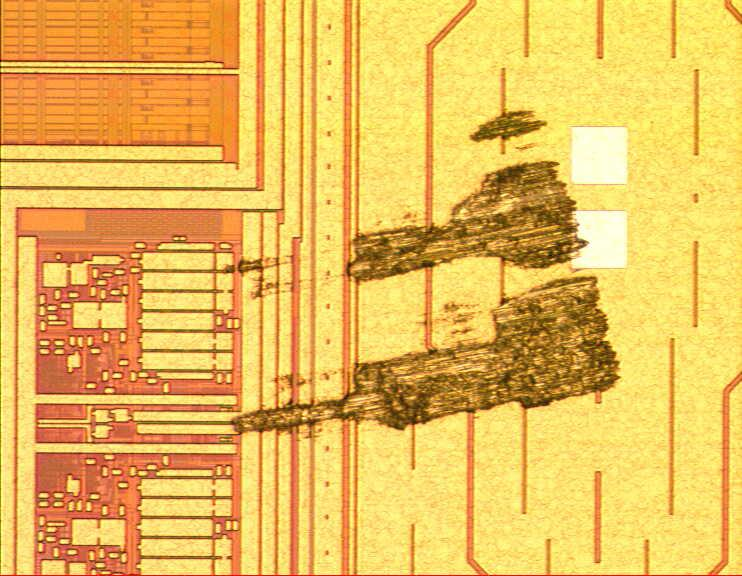SCRATCH: (215, 102, 638, 445)
